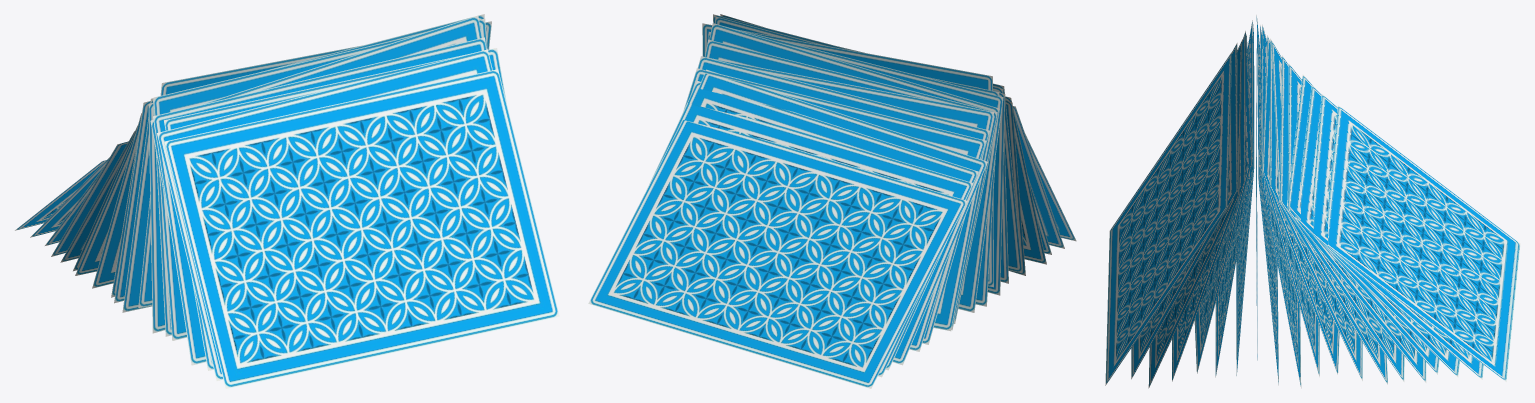
3 views of the same model, side by side, from view 1: azimuth 30°, elevation 25°; view 2: azimuth 150°, elevation 25°; view 3: azimuth 270°, elevation 25° (orthographic). The views are drawn at different scales.
Visible parts, largest first — view 1: Cards; view 2: Cards; view 3: Cards.
Boxes of the visible parts, x1=… form: Cards: x1=15, y1=14, x2=559, y2=388; Cards: x1=588, y1=14, x2=1076, y2=388; Cards: x1=1105, y1=15, x2=1520, y2=388.
Size of the model in its own units: 1.59 by 1.1 by 1.77.
1 material, 1 textured.
